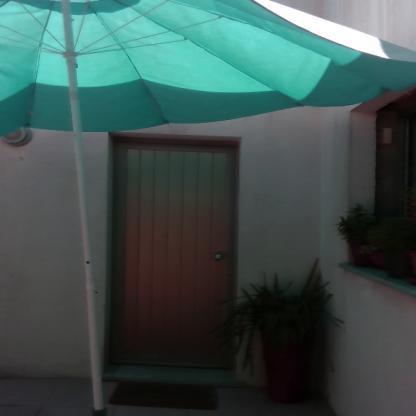door: (117, 141, 232, 369)
knob: (213, 252, 225, 262)
